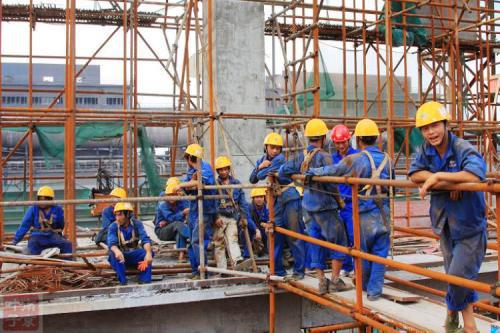helmet: (412, 98, 452, 148), (354, 116, 381, 151), (304, 116, 329, 150), (260, 132, 284, 160), (330, 125, 352, 155), (183, 142, 205, 170), (113, 201, 135, 226), (248, 182, 270, 207), (214, 153, 233, 180), (37, 185, 56, 211), (110, 185, 127, 208)
